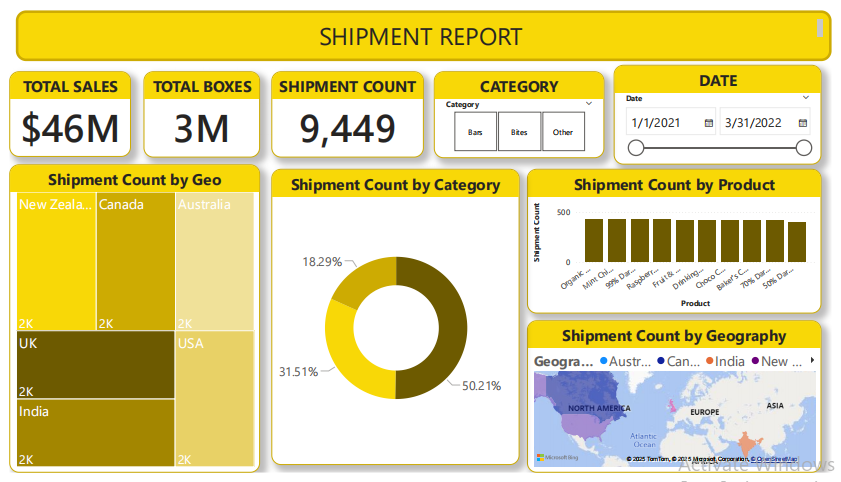

This screenshot's page, from the dashboard's own definition file:
{"tool":"powerbi","page":{"name":"Shipment Report","canvas":[1280,720],"ordinal":1},"visuals":[{"type":"textbox","box":[9.8,0,1270.2,79],"z":0},{"type":"card","title":"TOTAL SALES","fields":{"Values":["Sum(sales.Amount)"]},"box":[0,95.1,188.8,133.2],"z":1000},{"type":"card","title":"TOTAL BOXES","fields":{"Values":["sales.Total Boxes"]},"box":[209.2,94.7,180.6,134.1],"z":2000},{"type":"card","title":"SHIPMENT COUNT","fields":{"Values":["sales.Shipment Count"]},"box":[407.6,94.7,237.8,134.1],"z":3000},{"type":"slicer","title":"DATE","fields":{"Values":["sales.Date"]},"box":[941,84.9,323.4,155.1],"z":4000},{"type":"slicer","title":"CATEGORY","fields":{"Values":["products.Category"]},"box":[661.5,95.1,264.9,134.6],"z":5000},{"type":"columnChart","fields":{"Y":["sales.Shipment Count"],"Category":["products.Product"]},"box":[806.3,246.7,457.7,225.3],"z":6000},{"type":"filledMap","title":"Shipment Count by Geography","fields":{"Category":["locations.Geo"],"Series":["sales.Geography"]},"box":[806.3,482.7,457.7,237.8],"z":7000},{"type":"treemap","fields":{"Group":["locations.Geo"],"Values":["sales.Shipment Count"]},"box":[0,239.6,389.7,480.9],"z":8000},{"type":"donutChart","fields":{"Y":["sales.Shipment Count"],"Category":["products.Category"]},"box":[407.6,246.7,386.1,461.2],"z":9000}]}

Visuals, with their boxes on the page's 1280x720 design canvas (x1, y1, x2, y2). These are canvas units, not pixel positions in the 841x482 screenshot, which may show the page scaled, cropped or inside an application window:
textbox: bbox=[10, 0, 1280, 79]
"TOTAL SALES" card: bbox=[0, 95, 189, 228]
"TOTAL BOXES" card: bbox=[209, 95, 390, 229]
"SHIPMENT COUNT" card: bbox=[408, 95, 645, 229]
"DATE" slicer: bbox=[941, 85, 1264, 240]
"CATEGORY" slicer: bbox=[662, 95, 926, 230]
columnChart - sales.Shipment Count x products.Product: bbox=[806, 247, 1264, 472]
"Shipment Count by Geography" filledMap: bbox=[806, 483, 1264, 720]
treemap - locations.Geo x sales.Shipment Count: bbox=[0, 240, 390, 720]
donutChart - sales.Shipment Count x products.Category: bbox=[408, 247, 794, 708]
